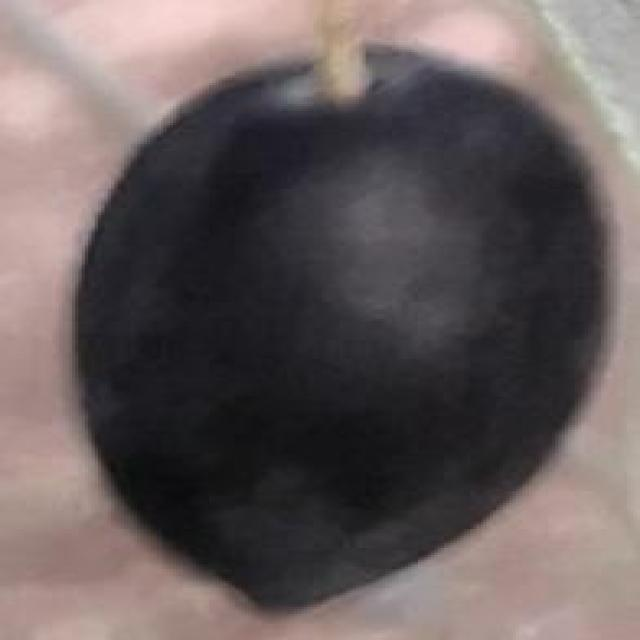Healthy: (75, 54, 604, 612)
